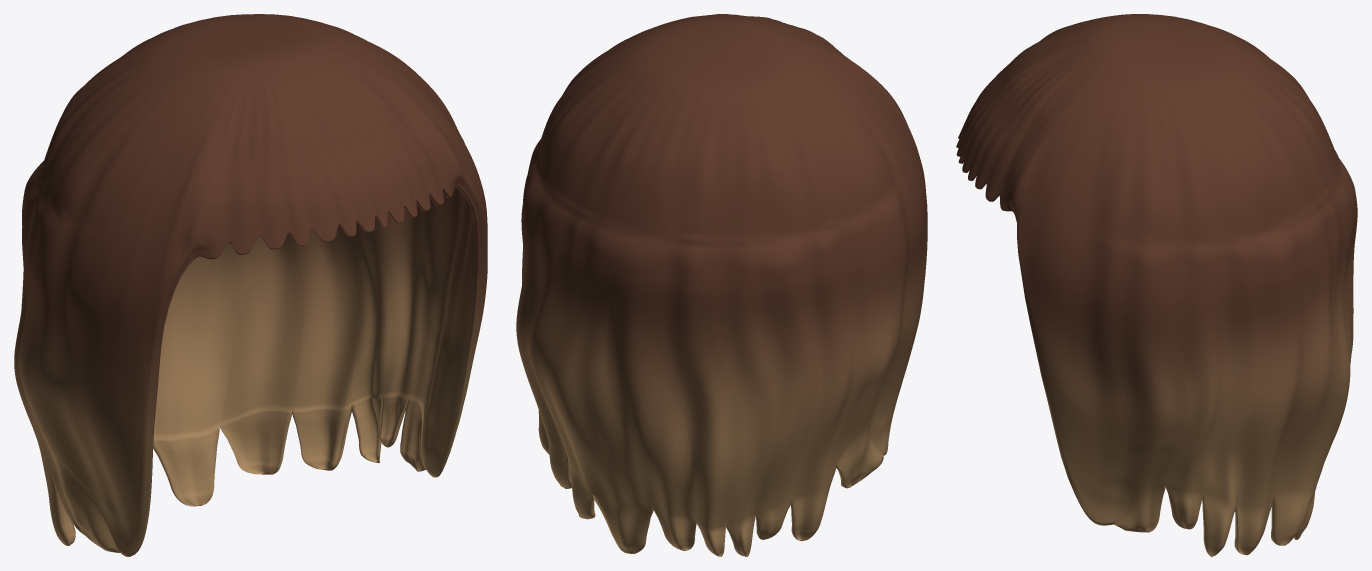
Rendered from long-bucket-ombre.glb.
3 renders of one model, left to right at view 1: azimuth 30°, elevation 25°; view 2: azimuth 150°, elevation 25°; view 3: azimuth 270°, elevation 25°, orthographic. The views are drawn at different scales.
Visible parts, largest first — view 1: Hair / rounded long fringe; view 2: Hair / rounded long fringe; view 3: Hair / rounded long fringe.
Boxes of the visible parts, <box> form: Hair / rounded long fringe: <box>14,14,487,556</box>; Hair / rounded long fringe: <box>516,14,927,556</box>; Hair / rounded long fringe: <box>956,14,1357,556</box>.
Bounding box in the file's own units: 0.8534 × 1.05 × 0.7801.
